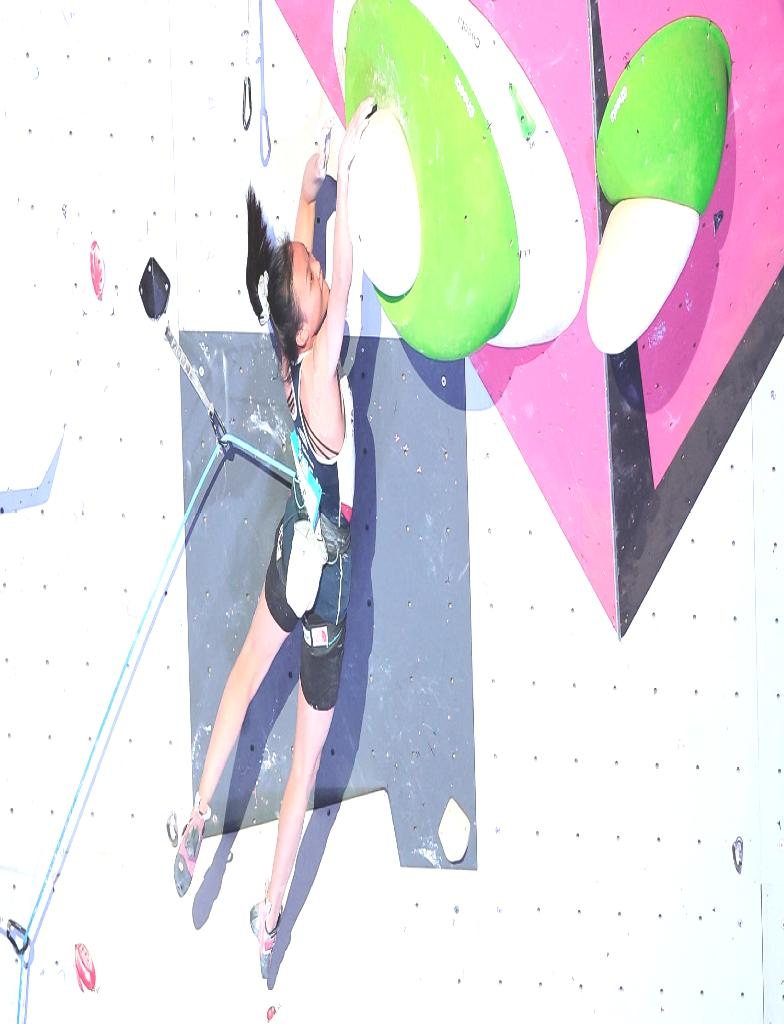crimp: (90, 239, 105, 297)
sloper: (587, 198, 699, 353), (348, 108, 421, 296)
volume: (55, 790, 426, 1023)
